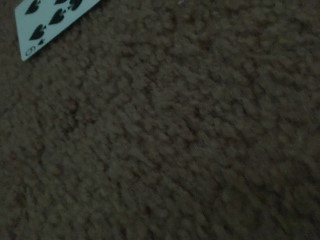NineOfSpades: (13, 1, 100, 61)
